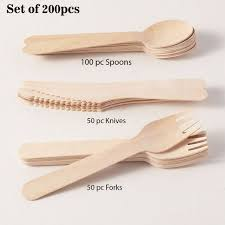Wooden Utensils: (10, 129, 218, 192), (30, 70, 207, 124), (27, 22, 204, 61)
